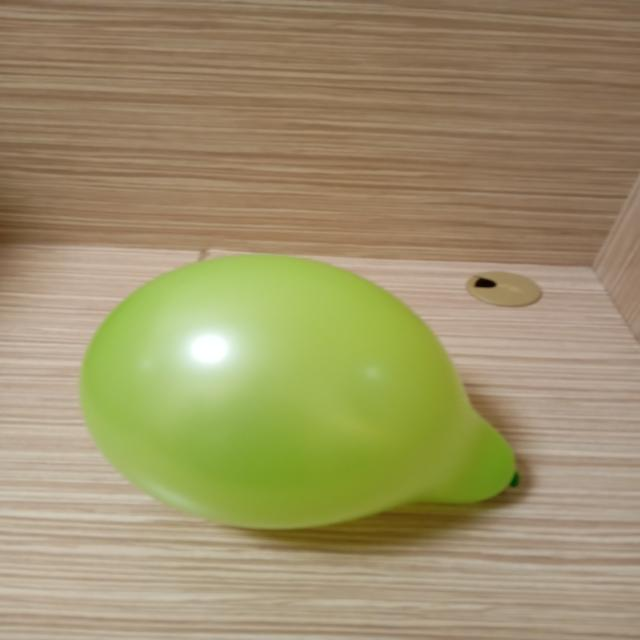balloon: (80, 255, 517, 529)
